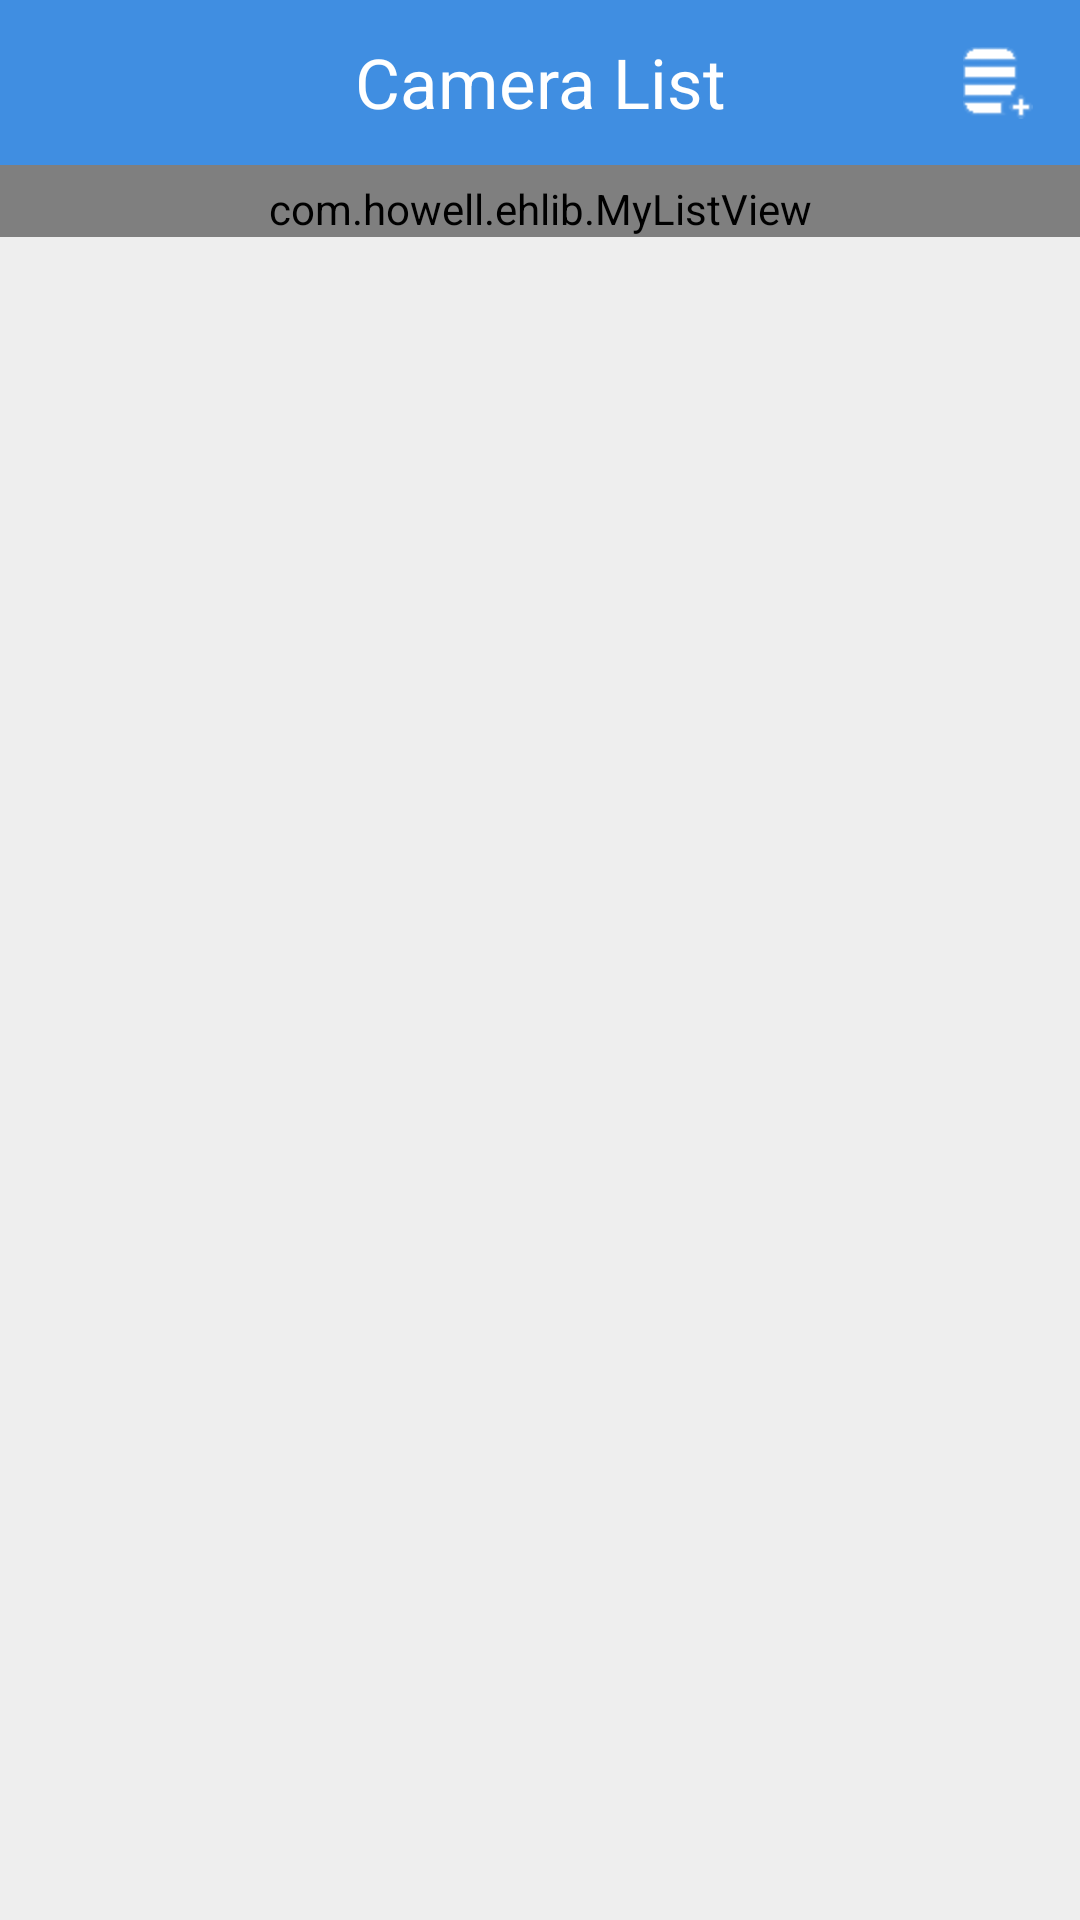

Where icons sit on this 1080px x 1920px app screen, as (x1, y1, x2, y2):
add: (963, 47, 1033, 119)
